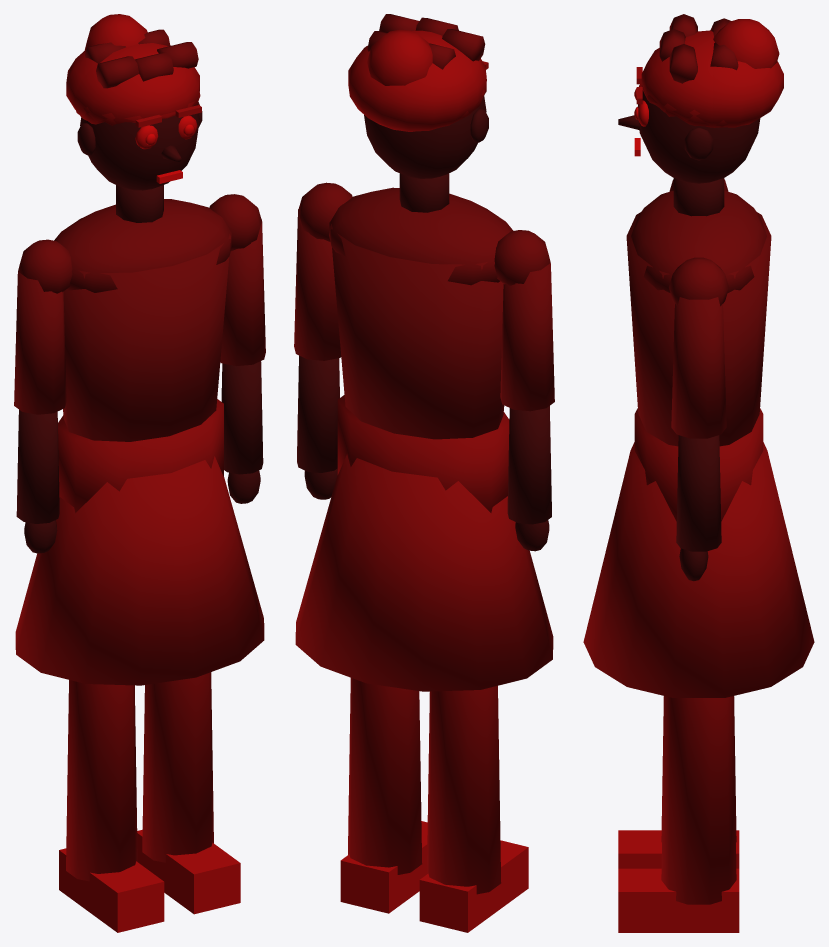
The model's file is npc_body.glb.
3 renders of one model, left to right at view 1: azimuth 30°, elevation 25°; view 2: azimuth 150°, elevation 25°; view 3: azimuth 270°, elevation 25°, orthographic. The views are drawn at different scales.
Visible parts, largest first — view 1: Body, Skirt, ArmR, ArmL, Head, HairShort, HairCurlers, HairBun; view 2: Body, Skirt, ArmR, ArmL, HairBun, Head, HairCurlers, HairShort; view 3: Body, Skirt, ArmL, Head, HairBun, HairShort, HairCurlers.
Boxes of the visible parts, x1=… form: Body: x1=54, y1=185, x2=240, y2=932; Skirt: x1=15, y1=456, x2=264, y2=685; ArmR: x1=14, y1=239, x2=72, y2=553; ArmL: x1=209, y1=194, x2=265, y2=503; Head: x1=77, y1=102, x2=202, y2=190; HairShort: x1=76, y1=43, x2=199, y2=123; HairCurlers: x1=75, y1=29, x2=200, y2=125; HairBun: x1=66, y1=14, x2=170, y2=118; Body: x1=329, y1=173, x2=528, y2=932; Skirt: x1=295, y1=454, x2=553, y2=691; ArmR: x1=494, y1=230, x2=554, y2=551; ArmL: x1=294, y1=182, x2=352, y2=499; HairBun: x1=348, y1=29, x2=476, y2=131; Head: x1=364, y1=61, x2=488, y2=178; HairCurlers: x1=367, y1=14, x2=486, y2=119; HairShort: x1=366, y1=30, x2=486, y2=114; Body: x1=618, y1=178, x2=771, y2=932; Skirt: x1=583, y1=442, x2=814, y2=697; ArmL: x1=669, y1=257, x2=728, y2=581; Head: x1=618, y1=67, x2=760, y2=183; HairBun: x1=713, y1=19, x2=783, y2=127; HairShort: x1=641, y1=30, x2=712, y2=127; HairCurlers: x1=641, y1=14, x2=738, y2=127.
Bounding box in the file's own units: 0.5746 × 1.93 × 0.459.
